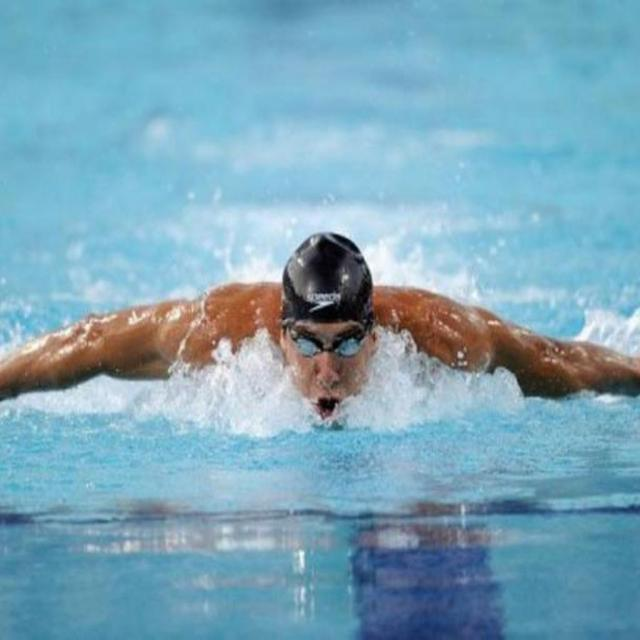nomask: (286, 296, 372, 437)
